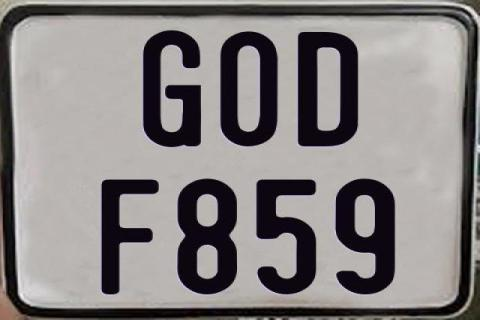0: (334, 178, 398, 298), (253, 178, 314, 298), (217, 30, 279, 148), (176, 176, 236, 297)
D: (296, 31, 360, 148)
F: (101, 178, 164, 294)
G: (144, 28, 206, 148)
